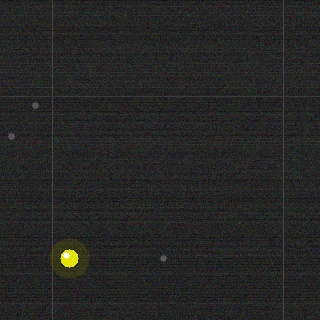yellow_warning: (58, 247, 80, 269)
